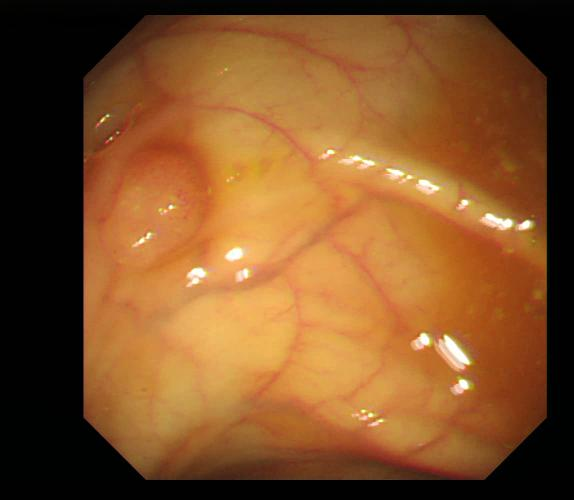polyp: (101, 144, 211, 267)
